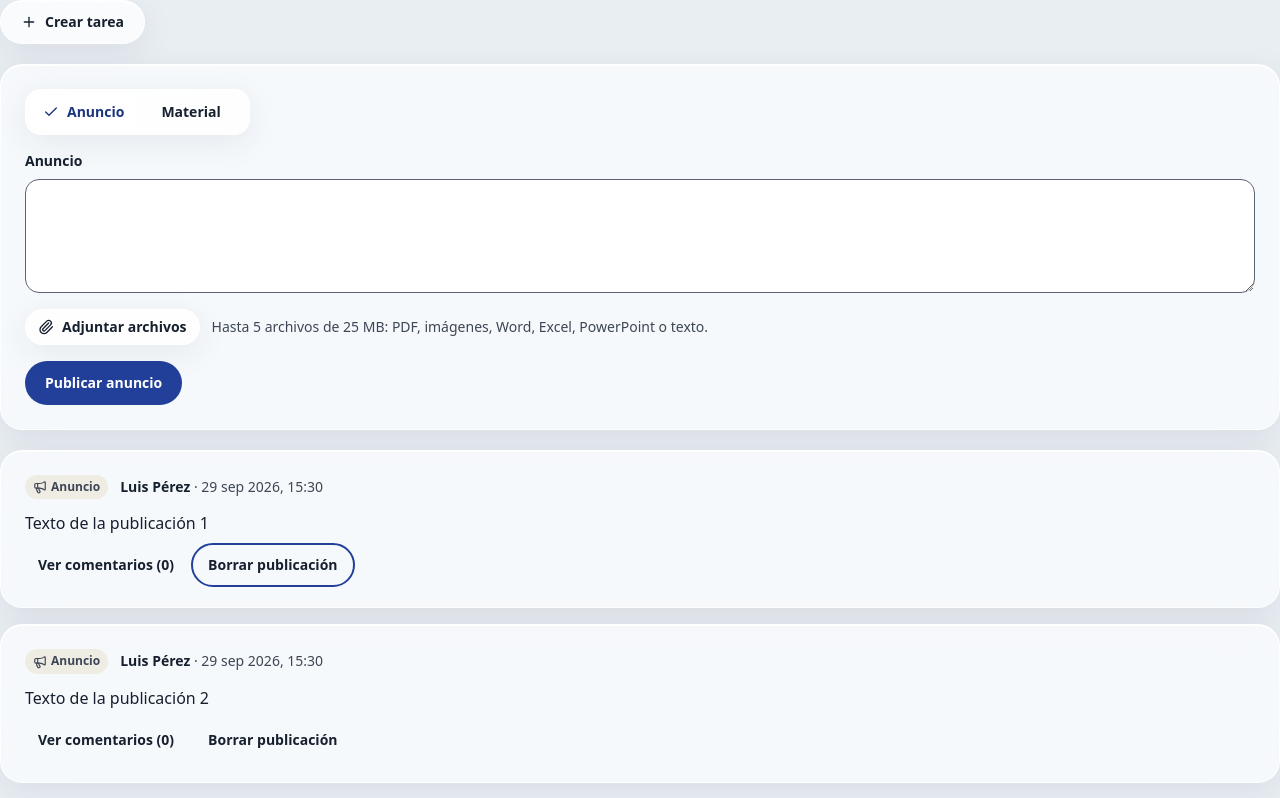
Test: MuroView › al borrar una publicación con el foco en su «Sí, borrar», el foco va a la vecina y, sin vecinas, al encabezado
Expected: the text "Texto de la publicación 1" is shown, [25,512,209,534]
Click the button "Borrar publicación" below "Texto de la publicación 1". click: (273, 566)
box: [195,548,350,584]
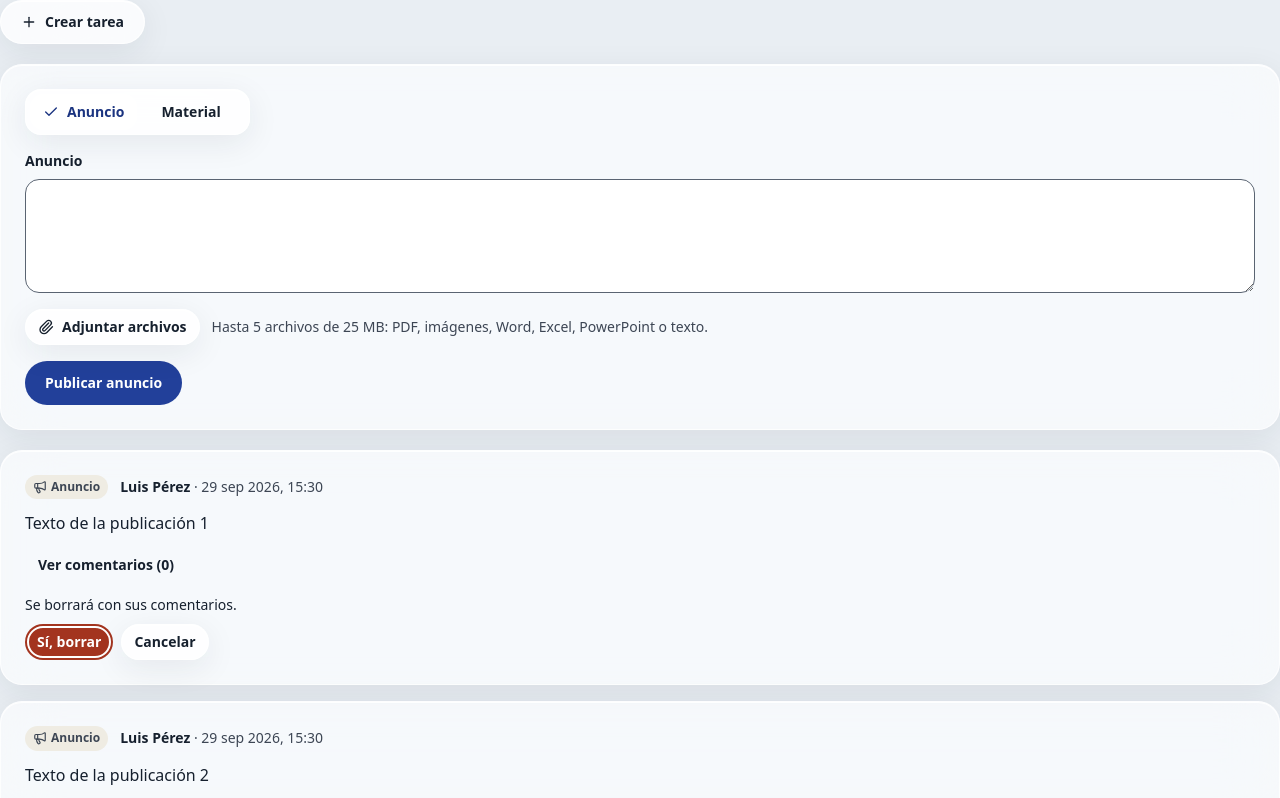
Click the button "Sí, borrar". click: (69, 642)
box: [25,624,113,660]
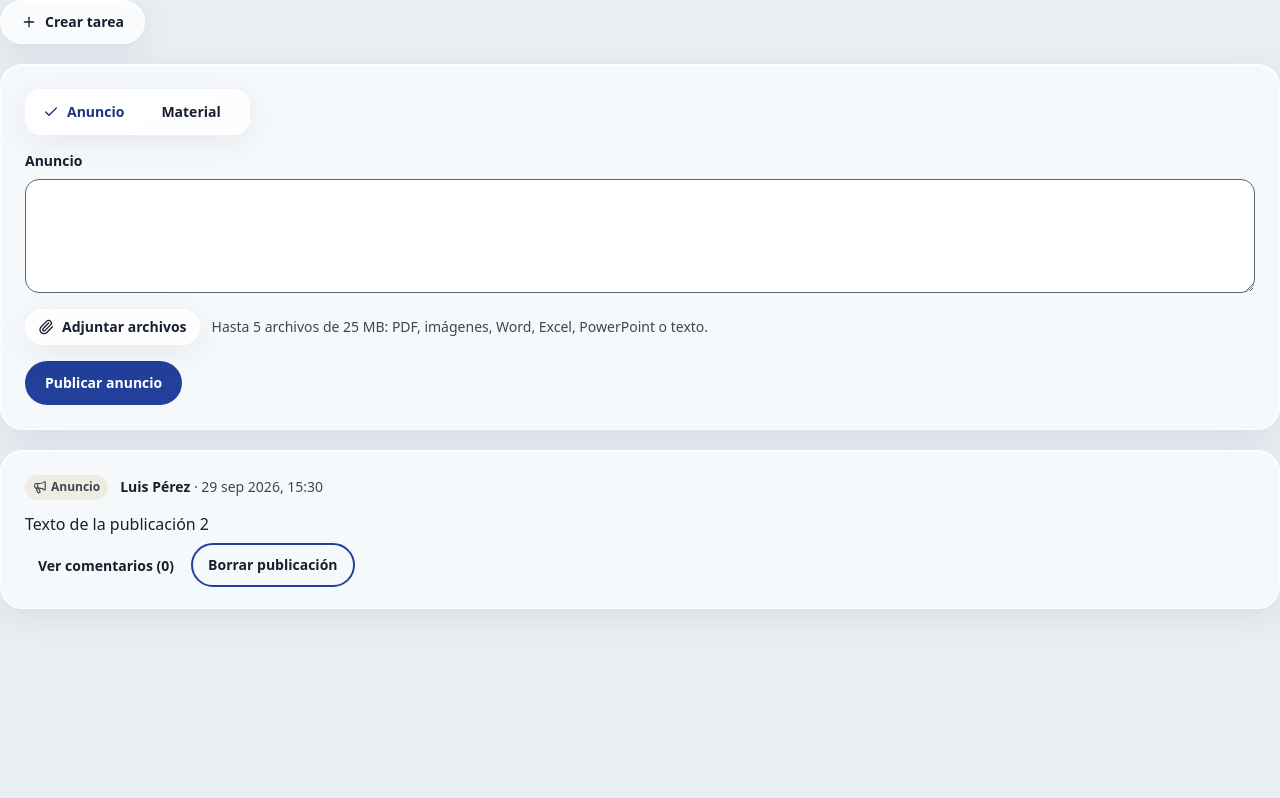
Expected: the text "Texto de la publicación 1" is gone
Click the button "Borrar publicación". click: (273, 566)
box: [195,548,350,584]
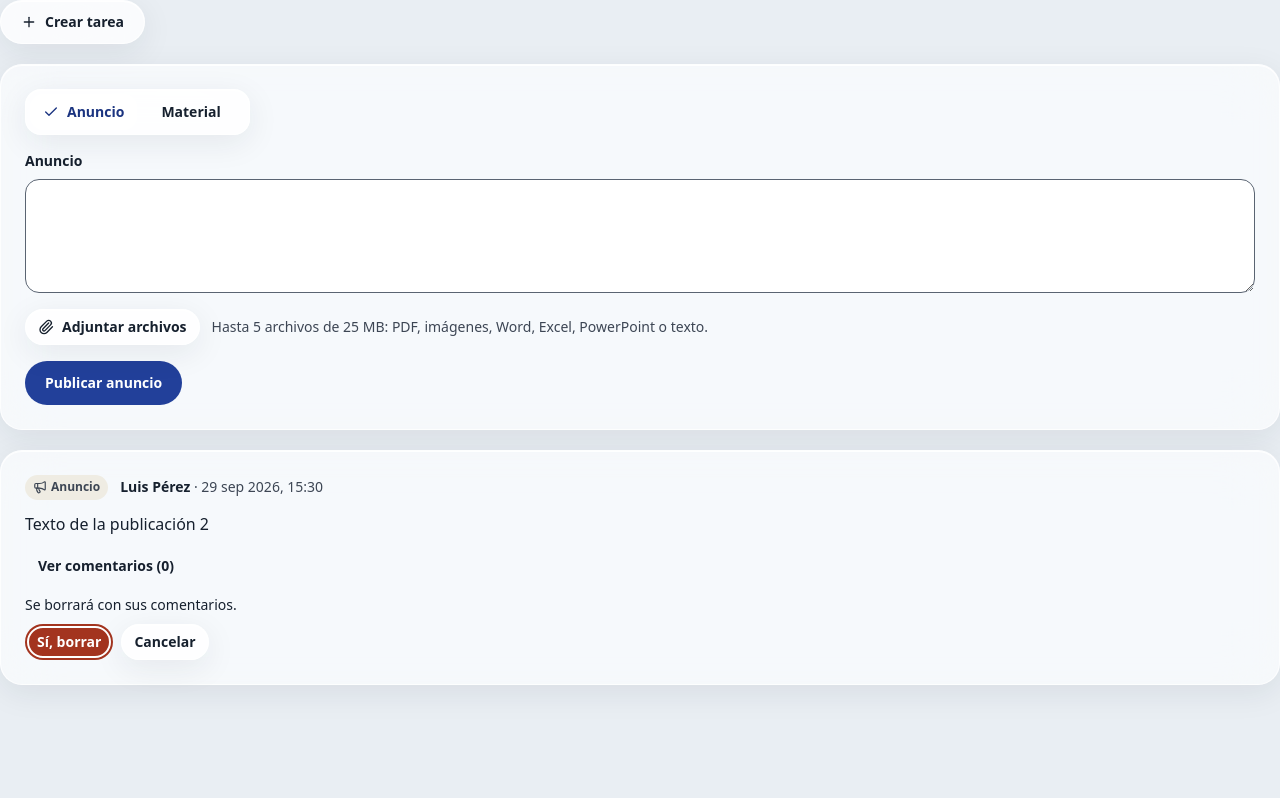
Click the button "Sí, borrar". click: (69, 642)
box: [25,624,113,660]
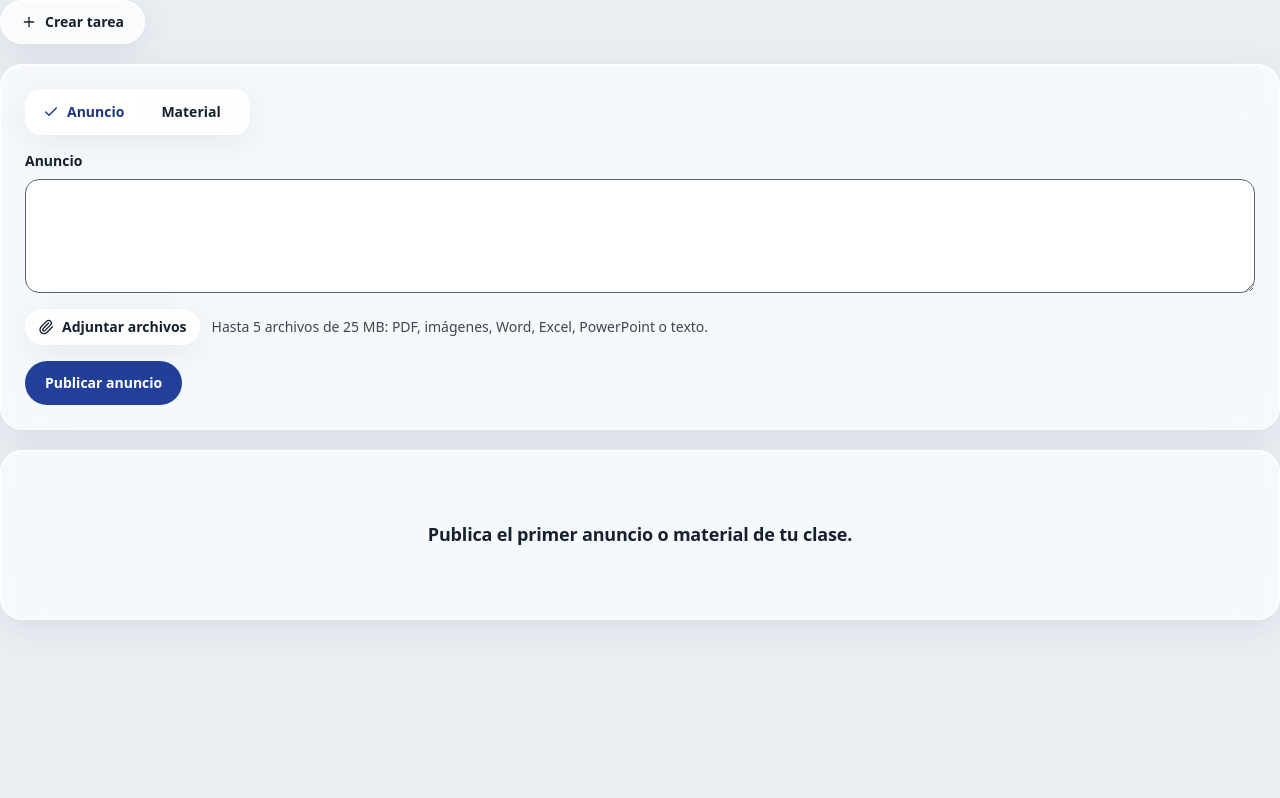
Expected: the text "Texto de la publicación 2" is gone
